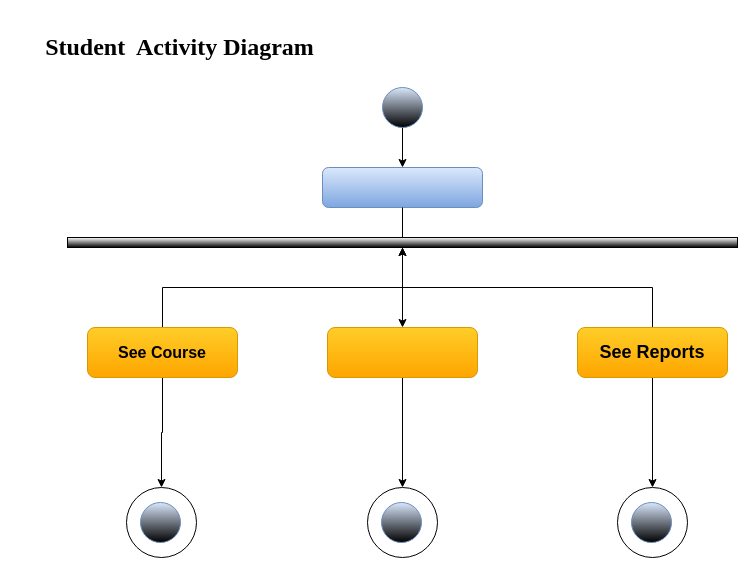
Image size: 755x575. Some labels were removed from this diagram. Here are the shapes that lost their labels. From the top down, the box of each, then its label:
(322, 166, 482, 208): Login
(326, 326, 478, 378): View Student Details
